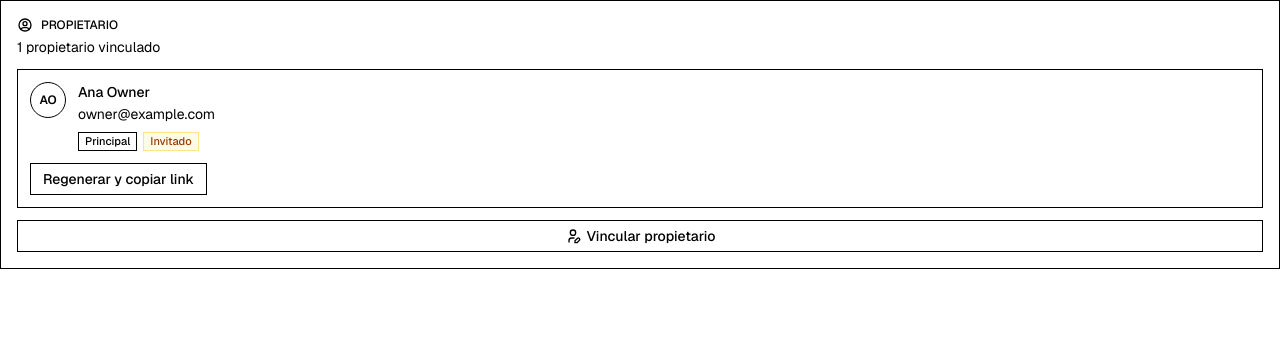
Test case: PropertyOwnerSection › shows the manual invitation fallback when clipboard copy fails
The width and height of the screenshot is (1280, 348).
What coordinates should you click on to do the following:
click the button "Regenerar y copiar link"
I would click on:
 (119, 178)
Its box is [30,162,207,194].
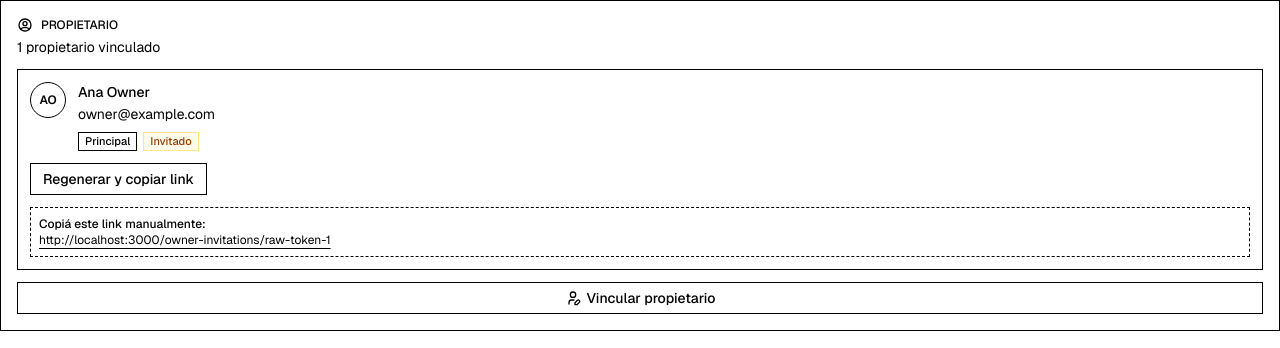
Result: the text "Copiá este link manualmente:" is shown at [39,216,206,232]
